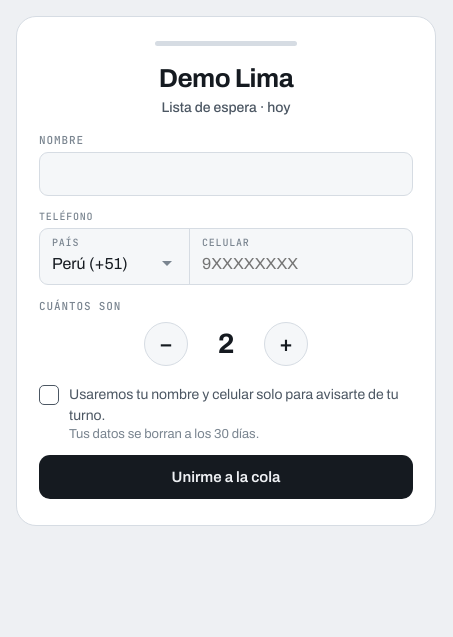
JoinPage: formulario › muestra el aviso de "otro pais" al elegir esa opcion
Check: the heading "Demo Lima" is shown, box [159,64,293,92]
Step 1. Select "Otro país" in the dropdown labelled "País" → coordinates (114, 264), box [52,251,177,277]
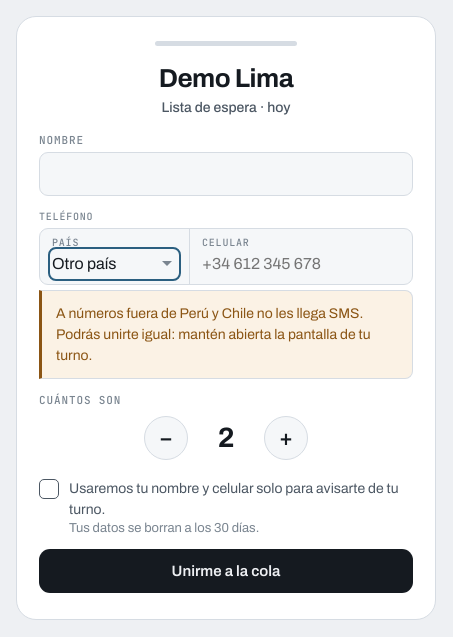
Check: the text "A números fuera de Perú y Chile no les llega SMS. Podrás unirte igual: mantén abierta la pantalla de tu turno." is shown, box [56,306,371,363]
